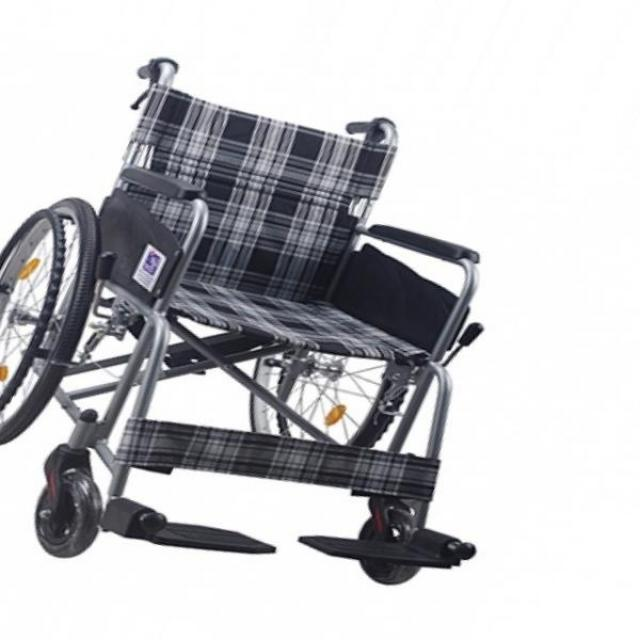wheelchair: (1, 36, 496, 623)
